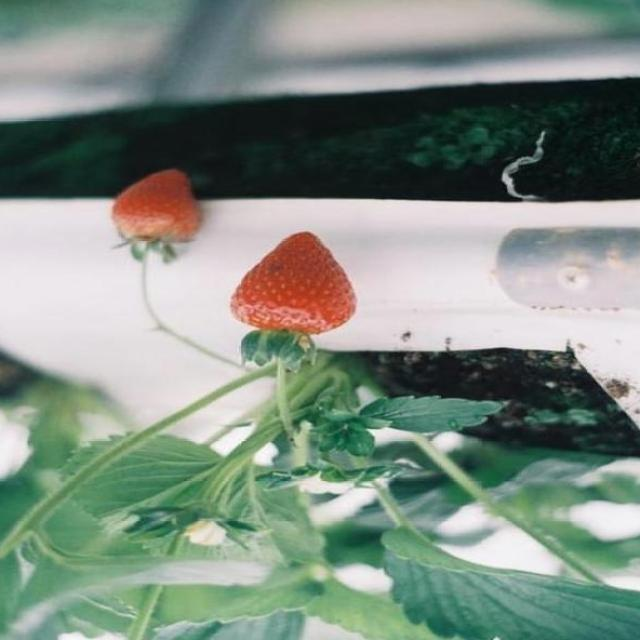Healthy Fruit: (229, 230, 357, 335), (110, 167, 201, 258)
